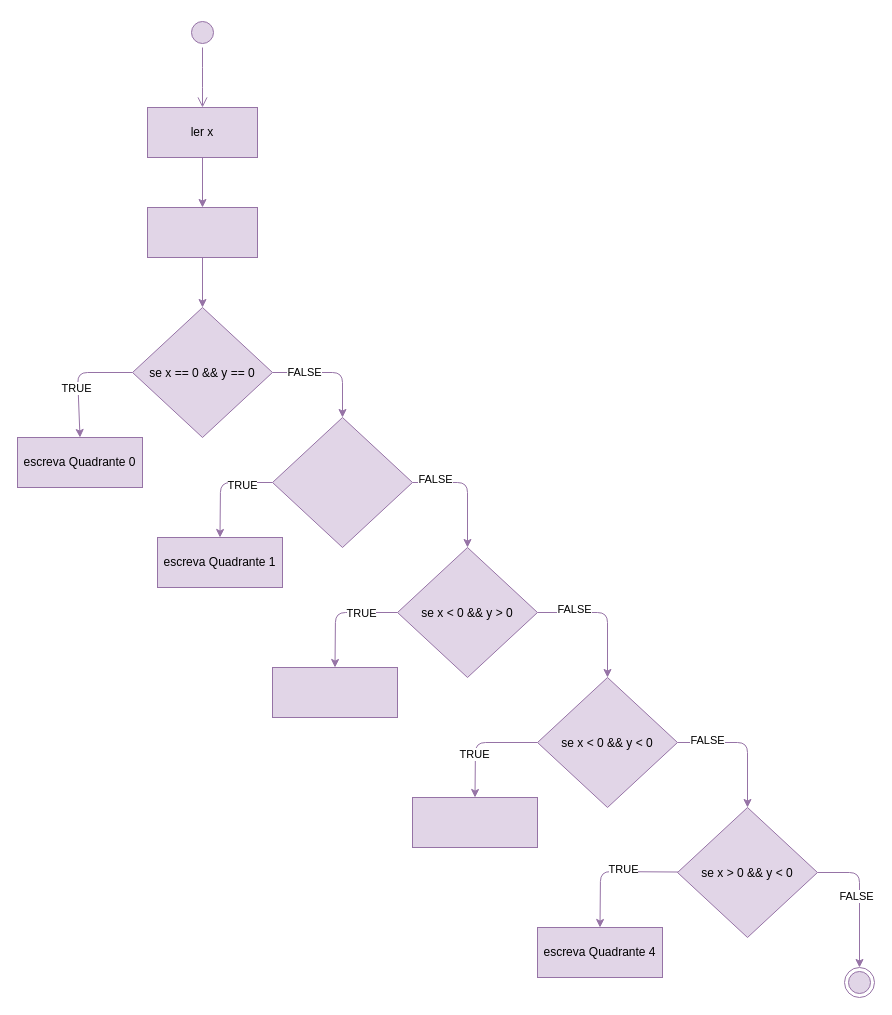
Some shapes in this 892 by 1015 pixel diagram are drawn without their labels. Here are the shapes that lost their labels. From the top down, the box of each, then its label:
(146, 206, 258, 258): ler y
(272, 416, 412, 548): se x > 0 && y > 0
(272, 666, 398, 718): escreva Quadrante 2
(412, 796, 538, 848): escreva Quadrante 3
